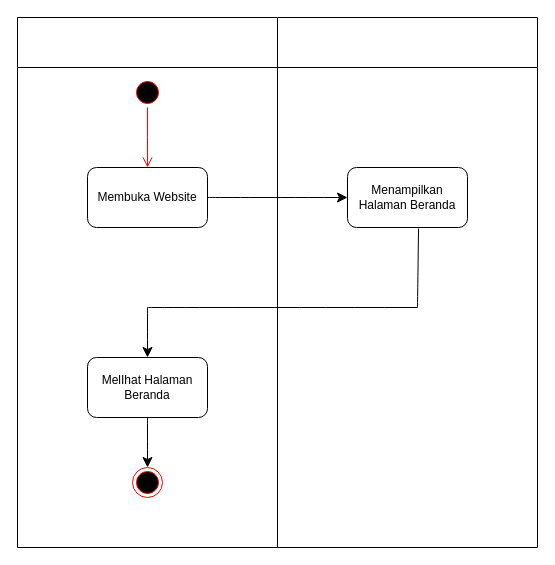
This 555x565 diagram has some shape labels left out. Each missing label, with the box of its shape:
Pengguna: (16, 16, 278, 548)
Sistem: (276, 16, 538, 548)
